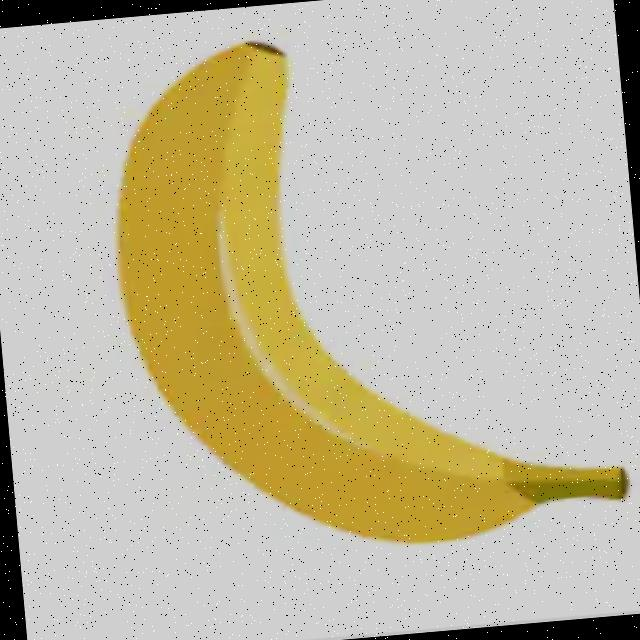banana: (101, 11, 636, 570)
